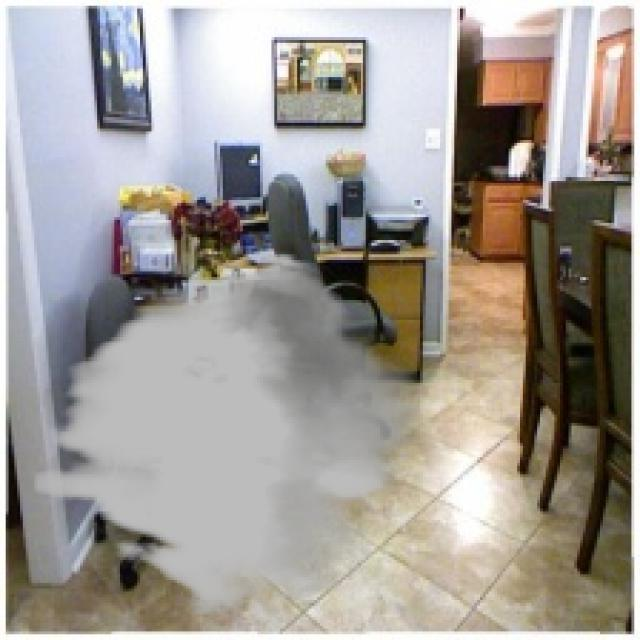Smoke: (34, 252, 420, 617)
